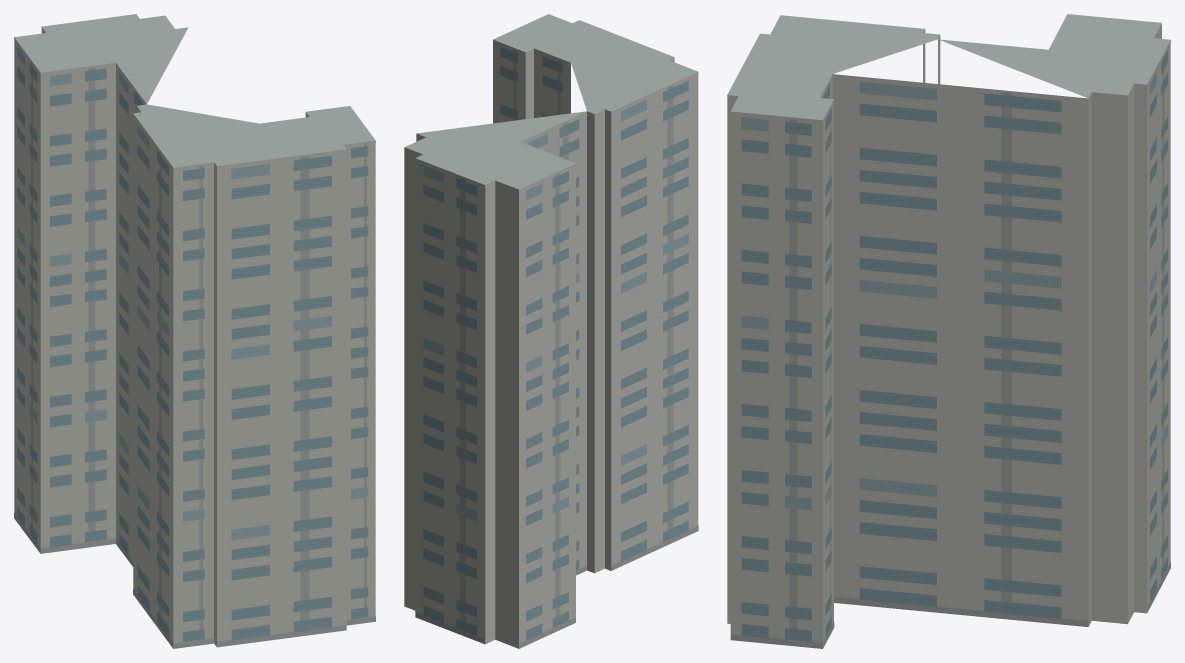
Rendered from residential-95e31d13-6d79-412c-91df-d9b1a7cc0fd8.glb.
3 renders of one model, left to right at view 1: azimuth 30°, elevation 25°; view 2: azimuth 150°, elevation 25°; view 3: azimuth 270°, elevation 25°, orthographic. The views are drawn at different scales.
Parts seen in each view (by area): view 1: residential-95e31d13-6d79-412c-91df-d9b1a7cc0fd8.tmp; view 2: residential-95e31d13-6d79-412c-91df-d9b1a7cc0fd8.tmp; view 3: residential-95e31d13-6d79-412c-91df-d9b1a7cc0fd8.tmp.
Part boxes in pixels (<box>): residential-95e31d13-6d79-412c-91df-d9b1a7cc0fd8.tmp: <box>14,14,375,648</box>; residential-95e31d13-6d79-412c-91df-d9b1a7cc0fd8.tmp: <box>404,14,698,648</box>; residential-95e31d13-6d79-412c-91df-d9b1a7cc0fd8.tmp: <box>727,14,1170,648</box>.
Size of the model in its own units: 28.04 by 65 by 49.45.
